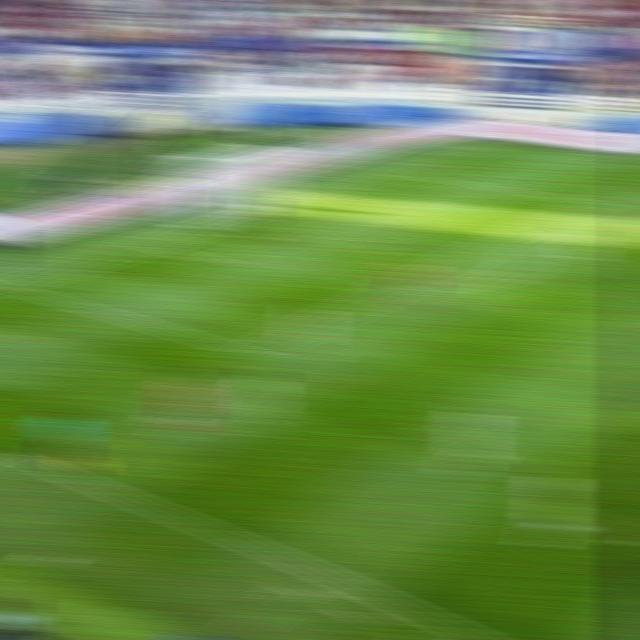bigarea_bottom_inner: (228, 338, 272, 367)
bigarea_bottom_outter: (0, 274, 29, 297)
bigarea_top_inner: (572, 192, 610, 210)
bigarea_top_outter: (380, 162, 419, 178)
bottom_arc_area_intersection: (379, 278, 417, 298)
corner: (461, 138, 499, 154)
smallarea_bottom_inner: (199, 250, 239, 272)
smallarea_bottom_outter: (132, 233, 174, 256)
smallarea_top_inner: (355, 196, 400, 216)
smallarea_top_outter: (302, 186, 343, 203)
top_arc_area_intersection: (494, 228, 532, 246)
